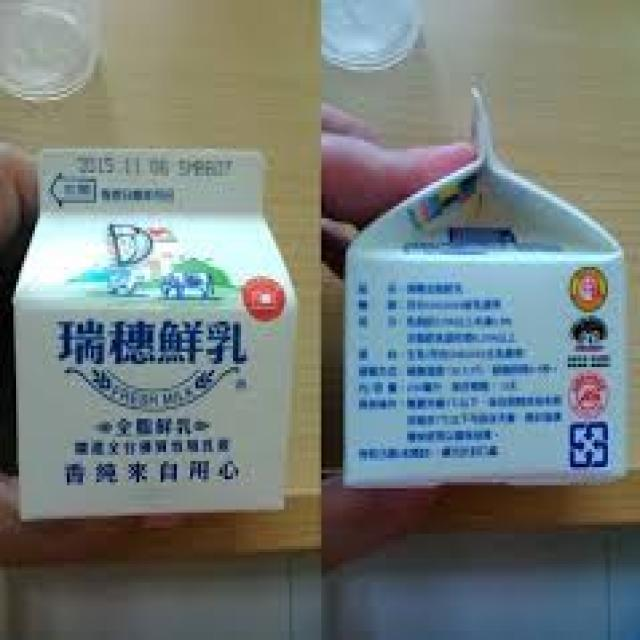RuiSui_Milk: (335, 74, 635, 496), (2, 146, 296, 527)
